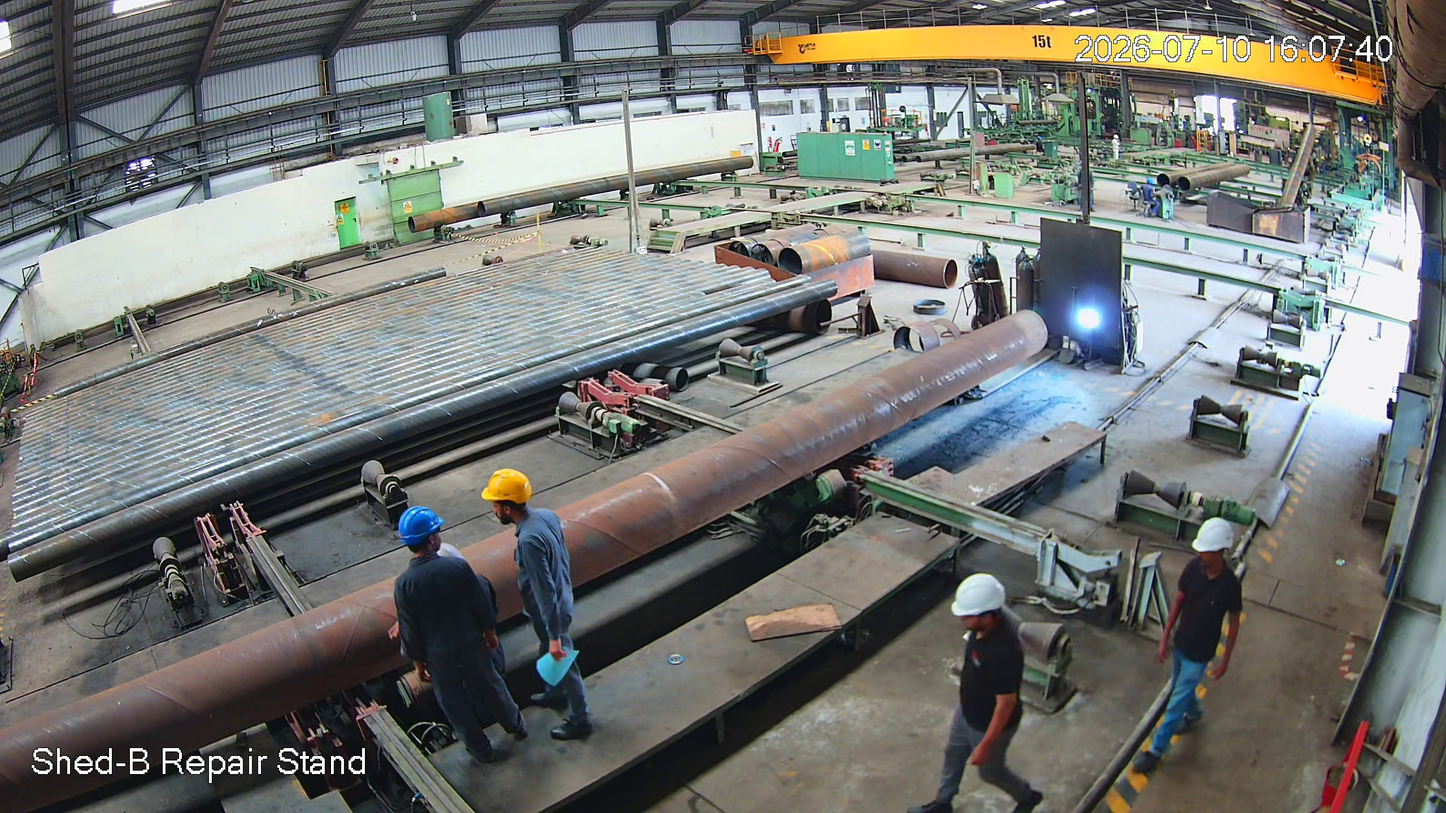Helmet: (939, 572, 1023, 653), (390, 492, 469, 565), (1186, 505, 1247, 588), (483, 456, 541, 527)
Person: (383, 500, 537, 771), (484, 463, 606, 755), (1138, 509, 1253, 786), (927, 574, 1030, 813)
